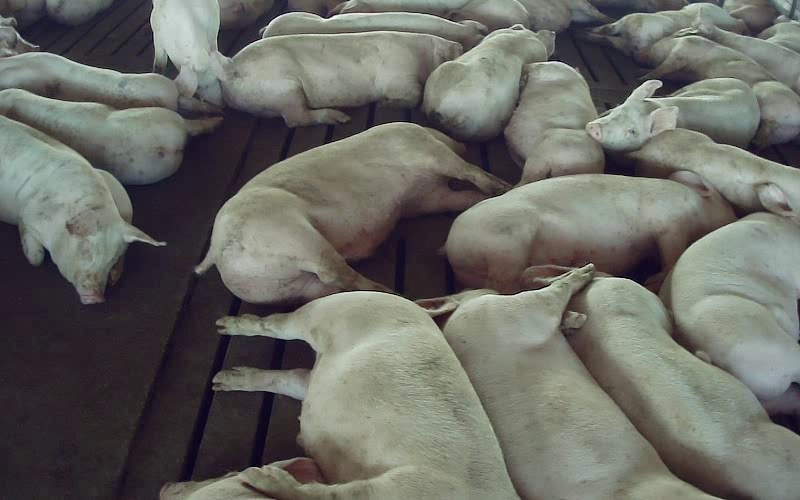pig: (418, 265, 710, 499), (214, 292, 516, 499), (567, 277, 799, 499), (445, 171, 735, 292), (661, 183, 799, 416), (222, 31, 461, 126), (641, 29, 799, 147), (422, 24, 554, 140), (627, 128, 799, 215), (586, 79, 759, 151), (504, 62, 604, 184), (150, 0, 229, 106), (261, 12, 487, 49), (586, 3, 745, 55)
